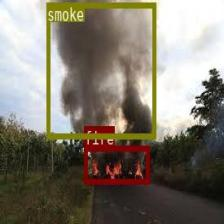fire: (84, 145, 148, 183)
smoke: (46, 2, 155, 138)
